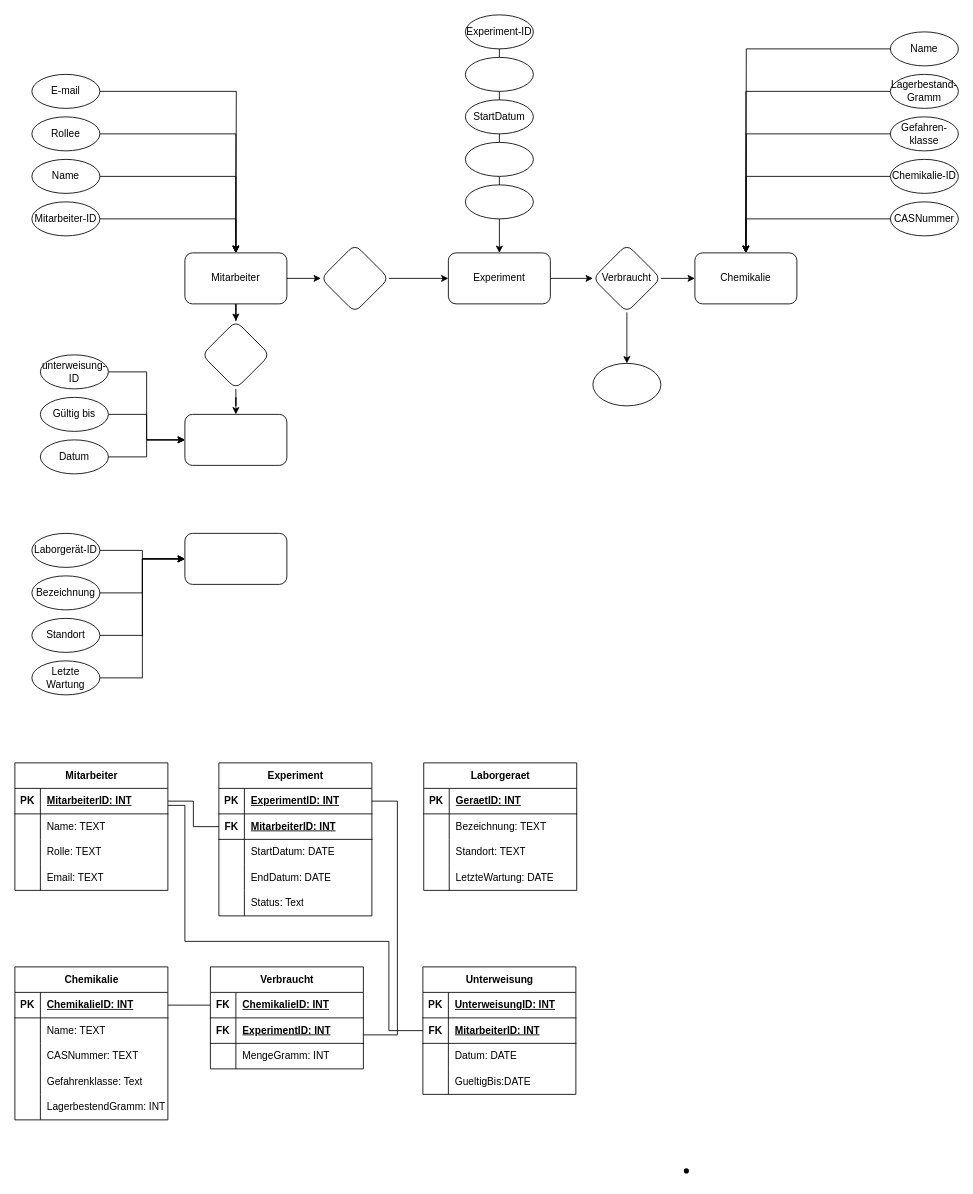
This 973x1194 diagram has some shape labels left out. Here are the shapes that lost their labels. From the top down, the centre of each, then its label:
At (x=499, y=74): "Titel".
At (x=499, y=159): "EndDatum".
At (x=499, y=201): "Status".
At (x=354, y=278): "führt durch".
At (x=235, y=354): "unterliegt".
At (x=626, y=384): "menge".
At (x=235, y=439): "Sicherheits-unterweisung".
At (x=235, y=558): "Laborgerät".
